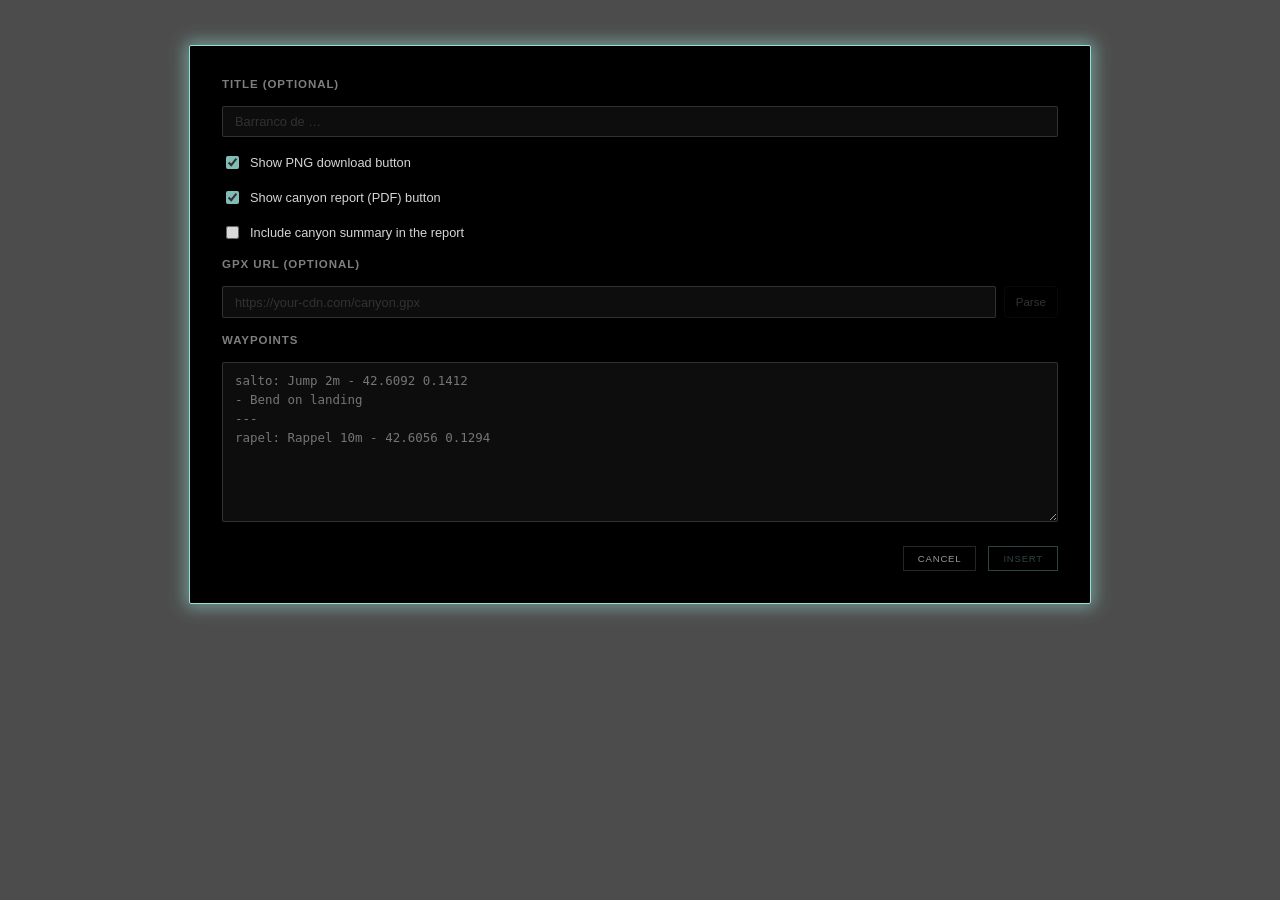
CroquisInsertModal › offers a waypoint selector and shows the fenced preview once drawable
Replace the text in the text box with test id "croquis-modal-text" with "salto: Jump 2m - 42.6092 0.1412" at (640, 442), box [222,362,1058,522]
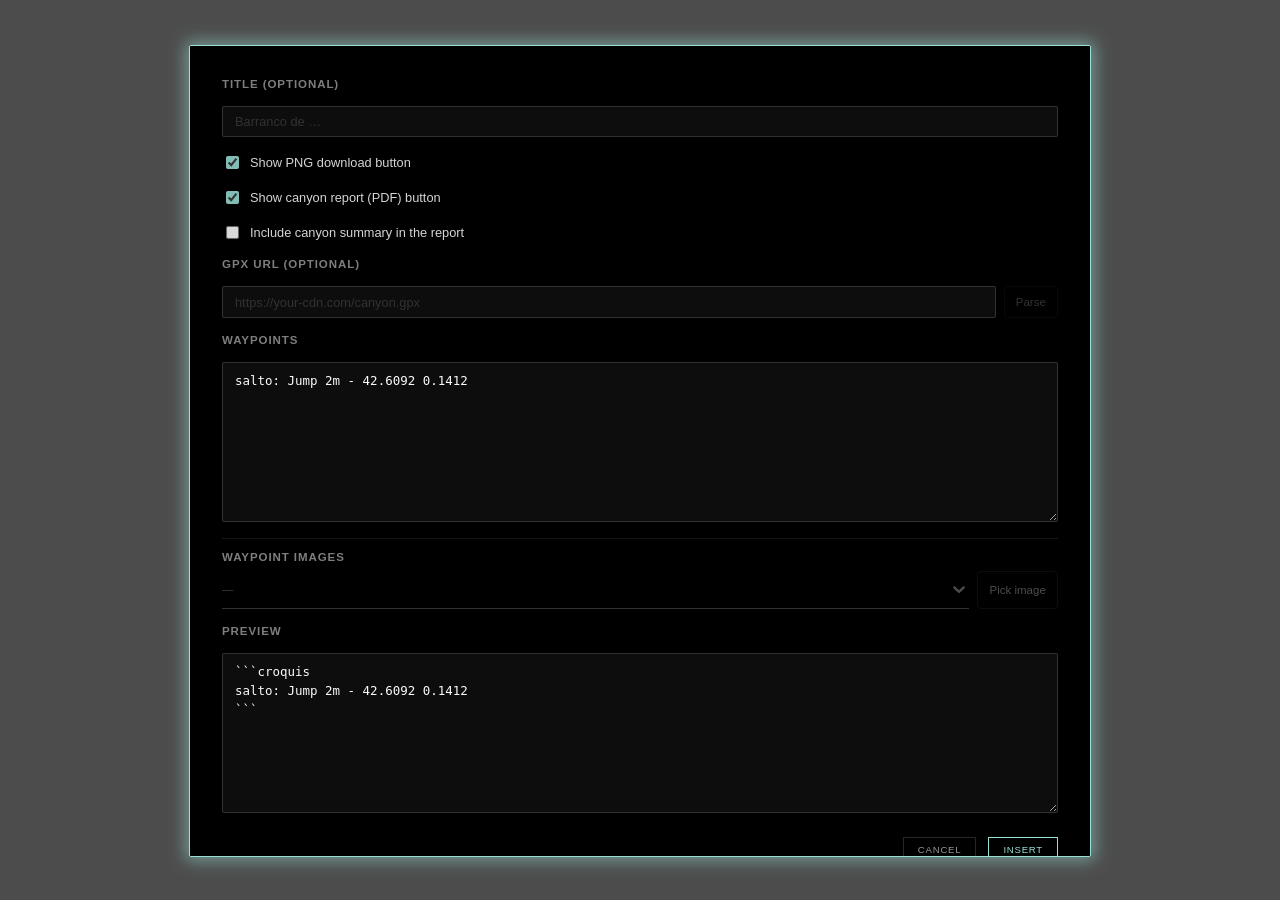
Check: the element with test id "croquis-wp-select" is shown, box [222,571,969,609]
